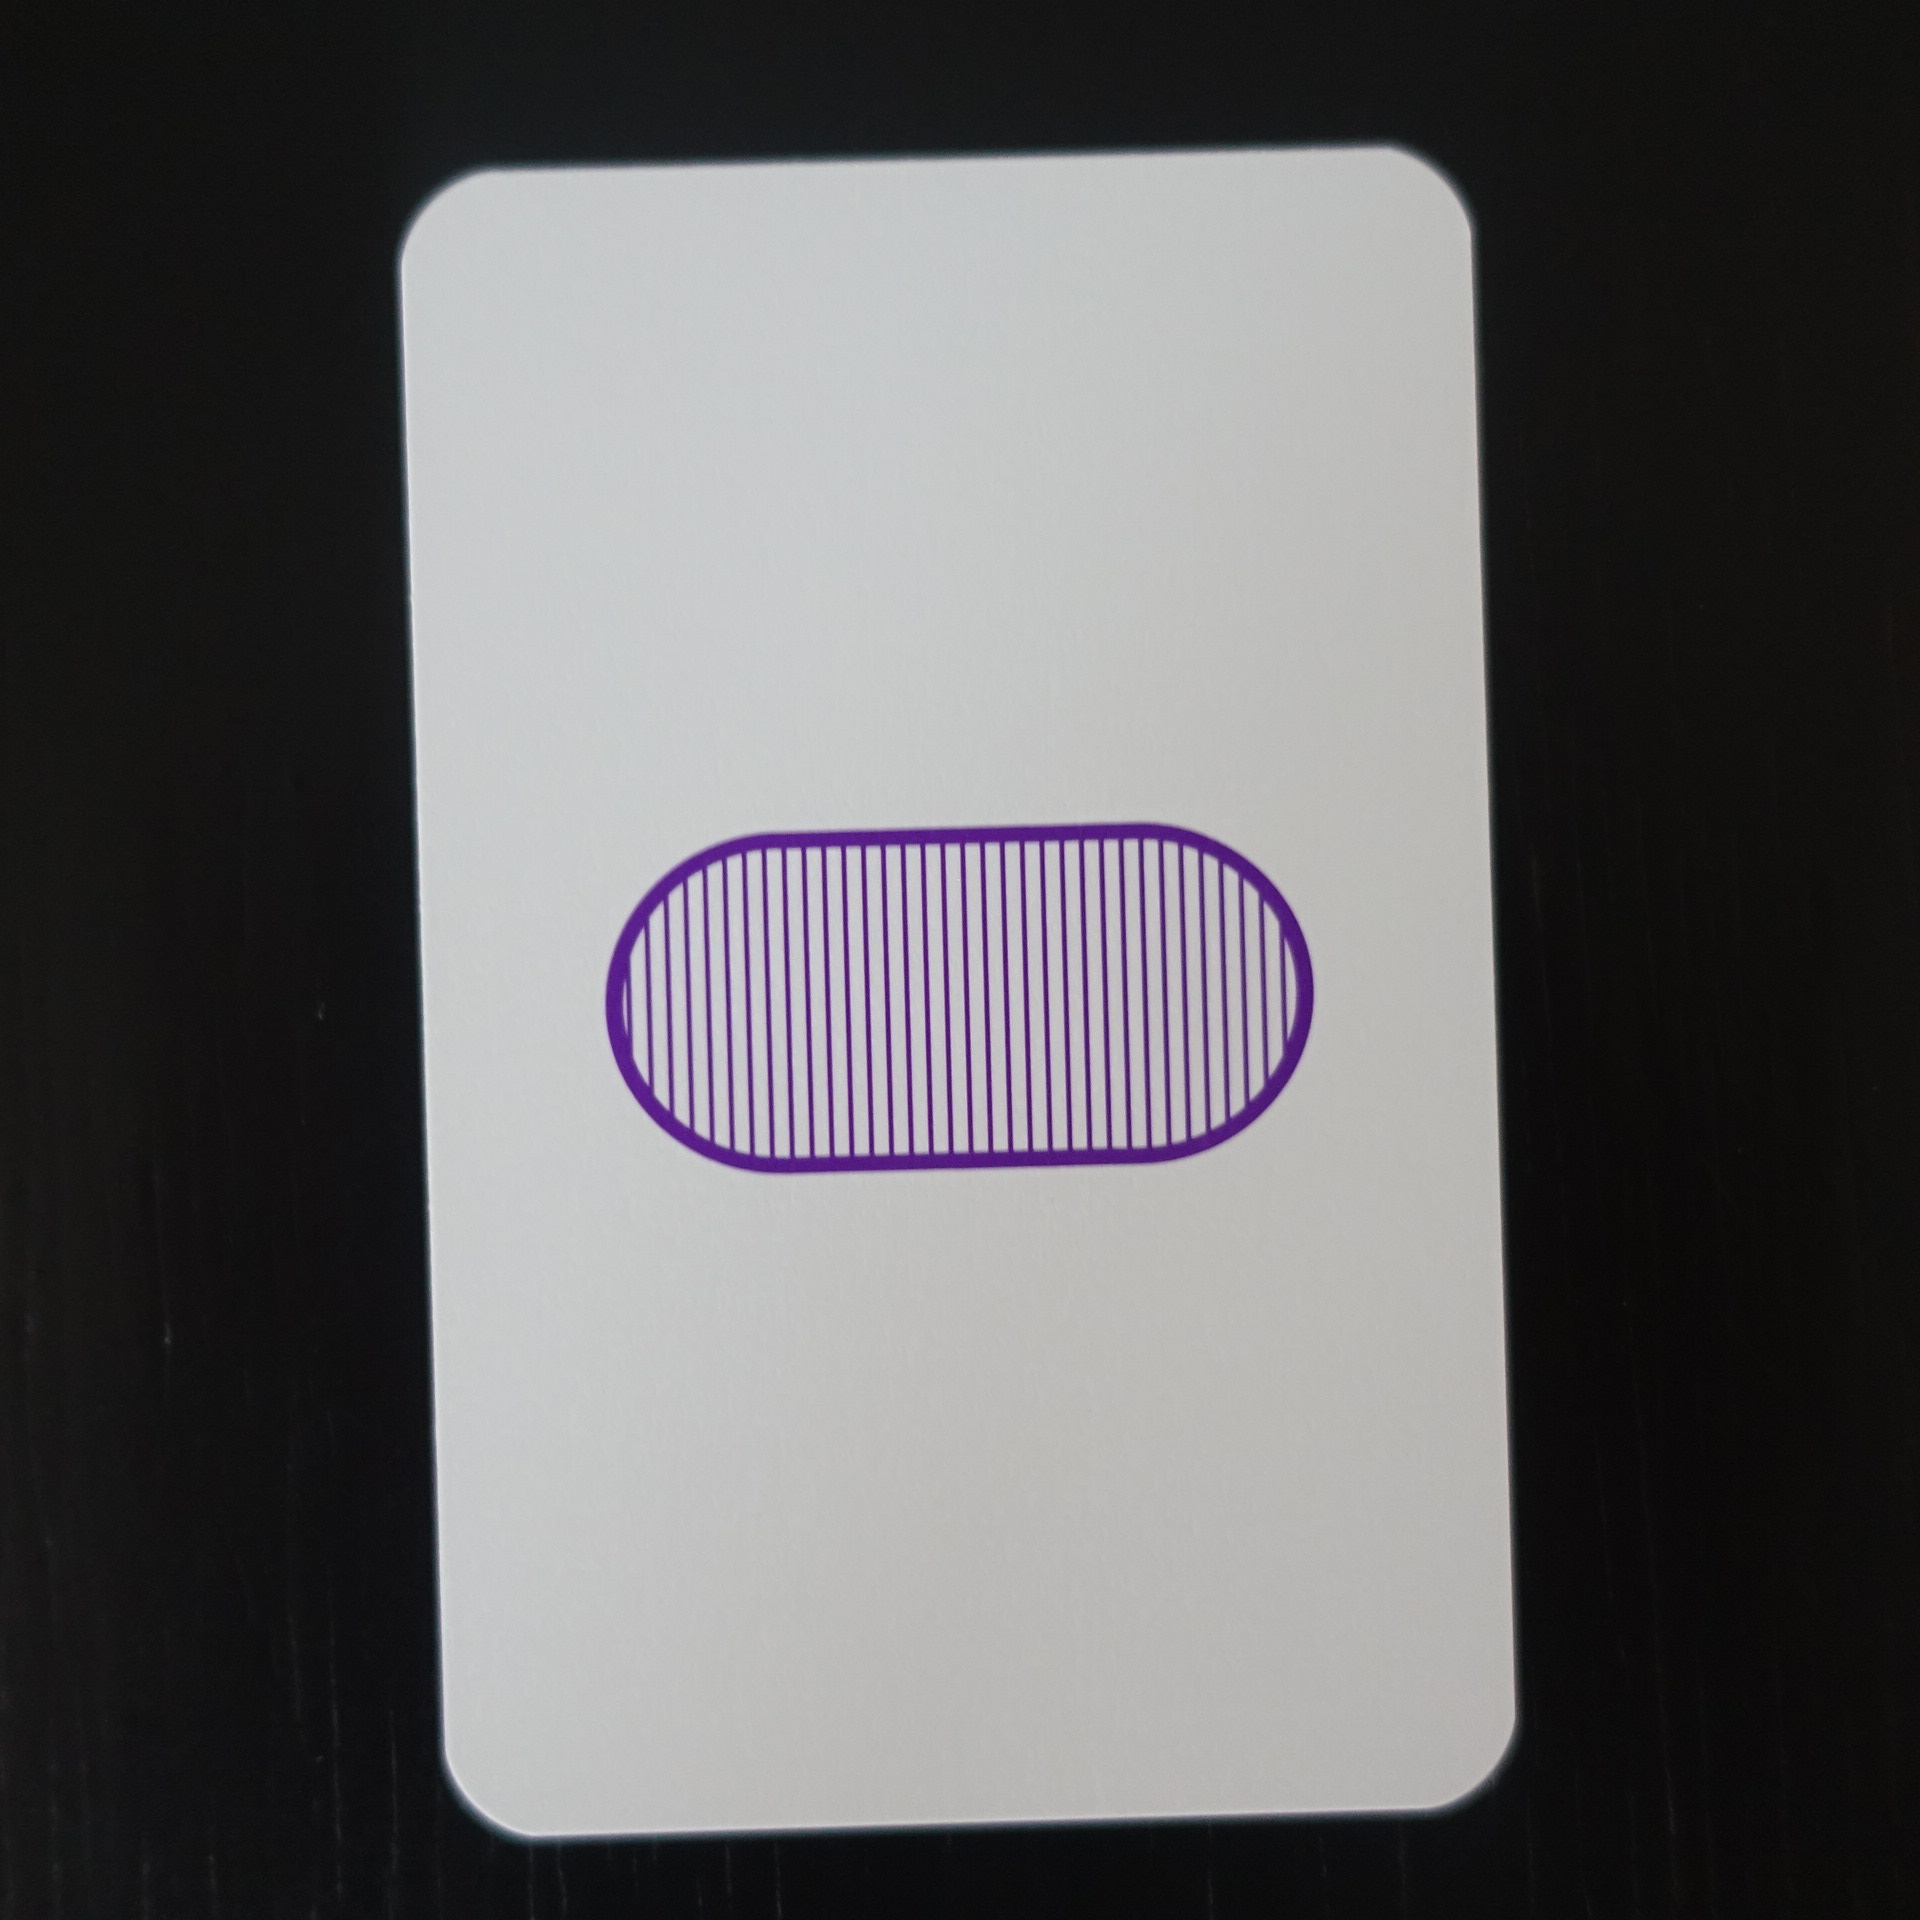c-1-h-o-p: (355, 125, 1563, 1860)
